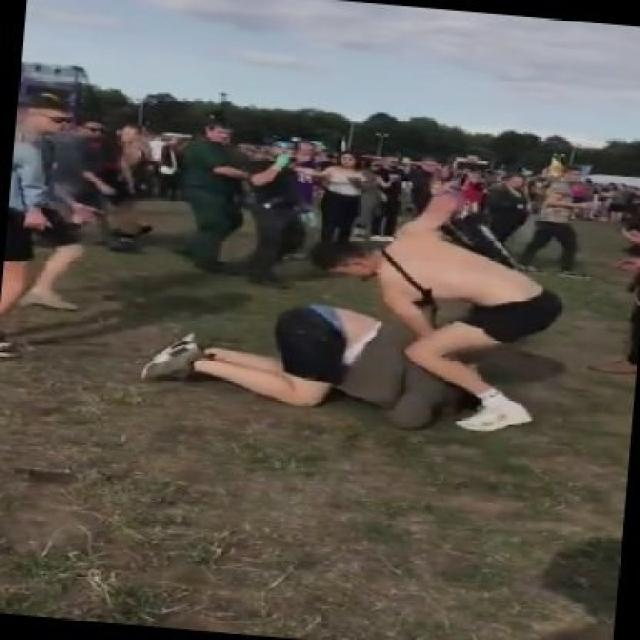fight: (149, 179, 588, 483)
non-fight: (297, 145, 381, 269)
